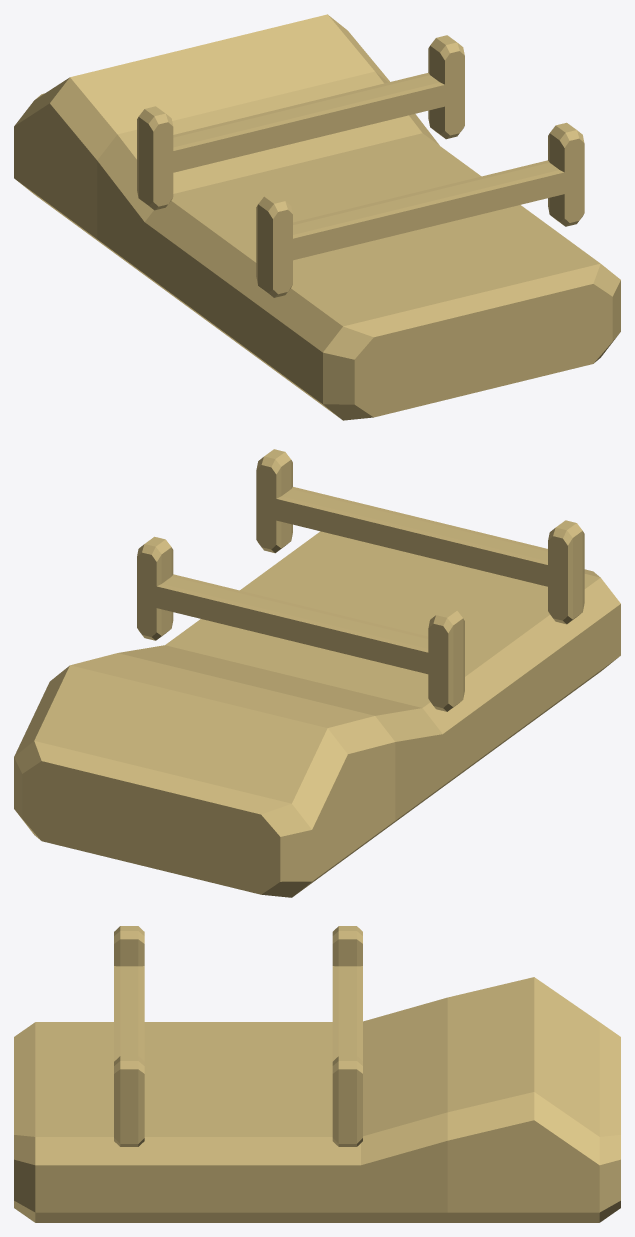
File: tallow_medium_c.glb
3 renders of one model, top to bottom at view 1: azimuth 30°, elevation 25°; view 2: azimuth 150°, elevation 25°; view 3: azimuth 270°, elevation 25°, orthographic. The views are drawn at different scales.
Parts seen in each view (by area): view 1: tallow_medium_c; view 2: tallow_medium_c; view 3: tallow_medium_c.
Boxes of the visible parts, <box> form: tallow_medium_c: <box>14,14,620,420</box>; tallow_medium_c: <box>14,449,620,897</box>; tallow_medium_c: <box>14,926,620,1222</box>.
Size of the model in its own units: 3.5 by 2 by 6.4.
